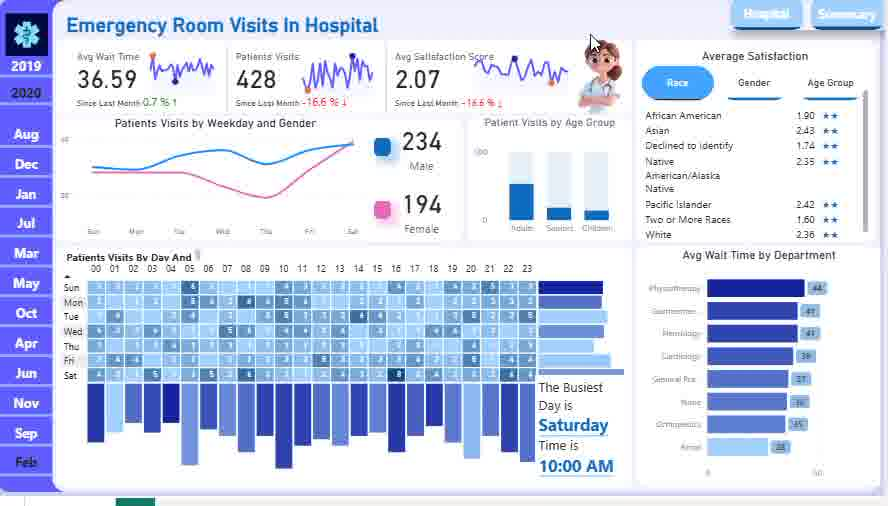

This screenshot's page, from the dashboard's own definition file:
{"tool":"powerbi","page":{"name":"Hospital ","canvas":[1280,720],"ordinal":0},"visuals":[{"type":"listSlicer","fields":{"Values":["Calendar.Year"]},"box":[0,73.4,87.8,329.8],"z":0},{"type":"listSlicer","fields":{"Values":["Calendar.Month"]},"box":[0,170.3,87.8,532],"z":1000},{"type":"cardVisual","fields":{"Data":["All Measures.Avg Wait Time","All Measures.Patients Visits","All Measures.Avg Satisfaction Score"]},"box":[99.2,59.5,697.9,110.8],"z":2000},{"type":"areaChart","fields":{"Y":["All Measures.Avg Wait Time","All Measures.Avg Wait Time Min Value","All Measures.Avg Wait Time Max Value"],"Category":["Calendar.Day"]},"box":[205.1,59.5,127.3,84.3],"z":3000},{"type":"areaChart","fields":{"Category":["Calendar.Day"],"Y":["All Measures.Patients Visits","All Measures.Patients Visits Max Value","All Measures.Patients Visits Min Value"]},"box":[423.4,59.5,137.3,91],"z":4000},{"type":"areaChart","fields":{"Category":["Calendar.Day"],"Y":["All Measures.Avg Satisfaction Score","All Measures.Avg Satisfaction Score Max Value","All Measures.Avg Satisfaction Score Min Value"]},"box":[669.8,59.5,173.6,84.3],"z":5000},{"type":"card","fields":{"Values":["All Measures.Patients Visits"]},"box":[559.7,169,105.6,90.8],"z":6000},{"type":"card","fields":{"Values":["All Measures.Patients Visits"]},"box":[559.7,259.8,105.6,90.8],"z":7000},{"type":"lineChart","fields":{"Y":["All Measures.Patients Visits"],"Category":["Calendar.Weekday"],"Series":["Hospital ER.Gender"]},"box":[87.8,169.9,456.5,180],"z":8000},{"type":"shape","box":[544.1,201.8,24.8,26.5],"z":9000},{"type":"shape","box":[544.1,292.7,24.8,26.5],"z":10000},{"type":"clusteredColumnChart","title":"Patient Visits by Age Group","fields":{"Category":["Hospital ER.Age Group"],"Y":["All Measures.Patients Visits","All Measures.Patient visit dummy"]},"box":[683,170.3,229.9,180.3],"z":11000},{"type":"tableEx","fields":{"Values":["Hospital ER.Race","All Measures.Avg Satisfaction Score","All Measures.Score Rating"]},"box":[924.4,127.3,337.4,223.3],"z":12000},{"type":"advancedSlicerVisual","title":"Average Satisfaction ","fields":{"Values":["Parameter score.Parameter score"]},"box":[924.4,72.8,337.4,79.4],"z":13000},{"type":"clusteredBarChart","title":"Avg Wait Time by Department","fields":{"Y":["All Measures.Avg Wait Time"],"Category":["Hospital ER.Department Referral"]},"box":[924.4,360.5,348.9,342.3],"z":14000},{"type":"pivotTable","fields":{"Values":["All Measures.Patients Visits"],"Rows":["Calendar.Weekday"],"Columns":["Hospital ER.Hour"]},"box":[87.8,374.4,695.5,193],"z":15000},{"type":"clusteredBarChart","fields":{"Category":["Calendar.Weekday"],"Y":["All Measures.Patients Visits"]},"box":[776.2,394.6,138.2,164.2],"z":16000},{"type":"clusteredColumnChart","fields":{"Y":["All Measures.Patients Visits"],"Category":["Hospital ER.Hour"]},"box":[126.7,541.4,656.6,161.3],"z":17000},{"type":"textbox","box":[776.2,542.9,136.8,159.8],"z":18000},{"type":"textbox","box":[96.5,357.1,203,27.4],"z":19000},{"type":"textbox","box":[96.5,17.3,501.1,56.2],"z":20000},{"type":"pageNavigator","box":[1057,0,223.2,46.1],"z":21000},{"type":"image","box":[5.8,17.3,76.3,70.6],"z":21001}]}

Visuals, with their boxes in screenshot pixels (x1, y1, x2, y2), scaled from the page's 1280x720 canvas onto the 888x506 screenshot:
listSlicer - Calendar.Year: (0,52,61,283)
listSlicer - Calendar.Month: (0,120,61,494)
cardVisual - All Measures.Avg Wait Time x All Measures.Patients Visits: (69,42,553,120)
areaChart - All Measures.Avg Wait Time x All Measures.Avg Wait Time Min Value: (142,42,231,101)
areaChart - Calendar.Day x All Measures.Patients Visits: (294,42,389,106)
areaChart - Calendar.Day x All Measures.Avg Satisfaction Score: (465,42,585,101)
card - All Measures.Patients Visits: (388,119,462,183)
card - All Measures.Patients Visits: (388,183,462,246)
lineChart - All Measures.Patients Visits x Calendar.Weekday: (61,119,378,246)
shape: (377,142,395,160)
shape: (377,206,395,224)
"Patient Visits by Age Group" clusteredColumnChart: (474,120,633,246)
tableEx - Hospital ER.Race x All Measures.Avg Satisfaction Score: (641,89,875,246)
"Average Satisfaction " advancedSlicerVisual: (641,51,875,107)
"Avg Wait Time by Department" clusteredBarChart: (641,253,883,494)
pivotTable - All Measures.Patients Visits x Calendar.Weekday: (61,263,543,399)
clusteredBarChart - Calendar.Weekday x All Measures.Patients Visits: (538,277,634,393)
clusteredColumnChart - All Measures.Patients Visits x Hospital ER.Hour: (88,380,543,494)
textbox: (538,382,633,494)
textbox: (67,251,208,270)
textbox: (67,12,415,52)
pageNavigator: (733,0,887,32)
image: (4,12,57,62)
